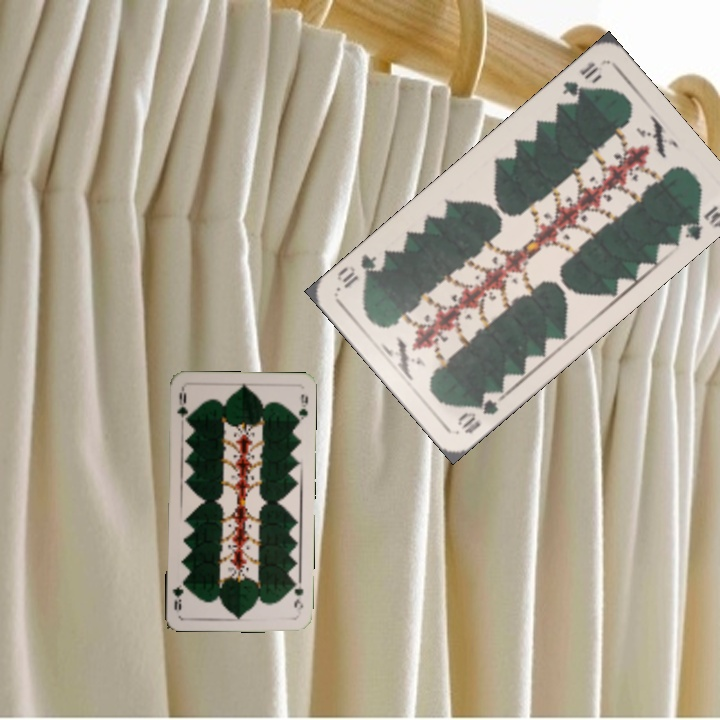G10: (453, 387, 506, 437), (558, 57, 602, 108)
G9: (173, 386, 191, 426), (289, 576, 306, 616)
